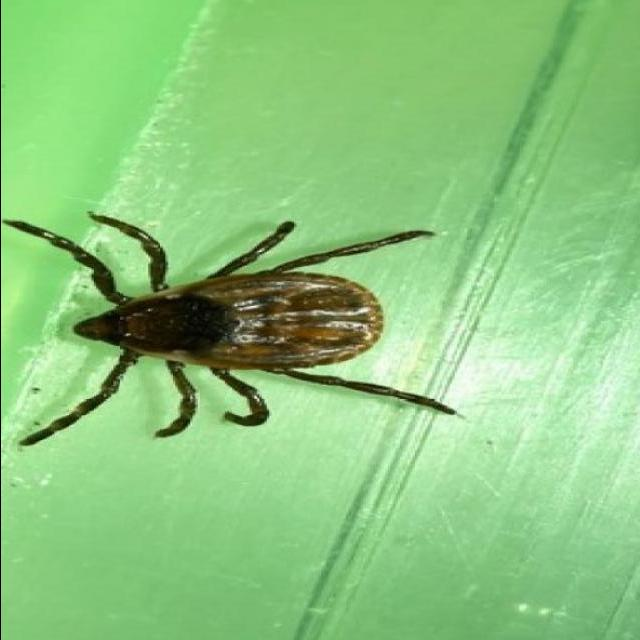Rhipicephalus Sanguineus-F: (1, 212, 454, 446)
